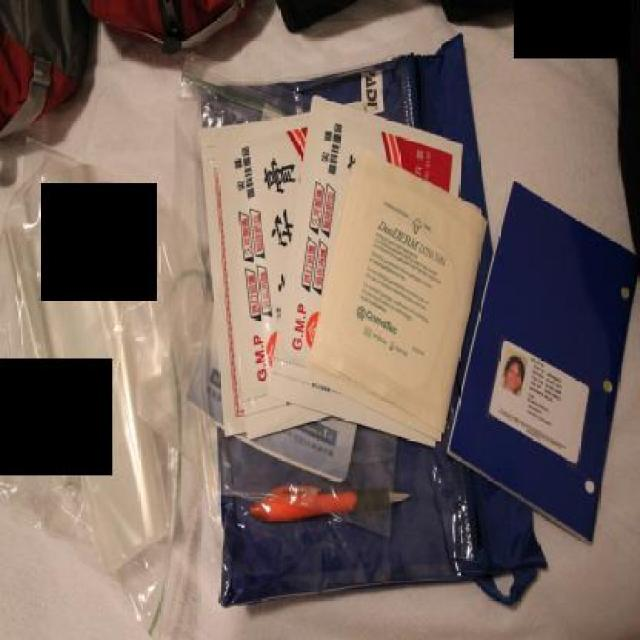plastic bag: (135, 51, 403, 538), (0, 136, 206, 638)
